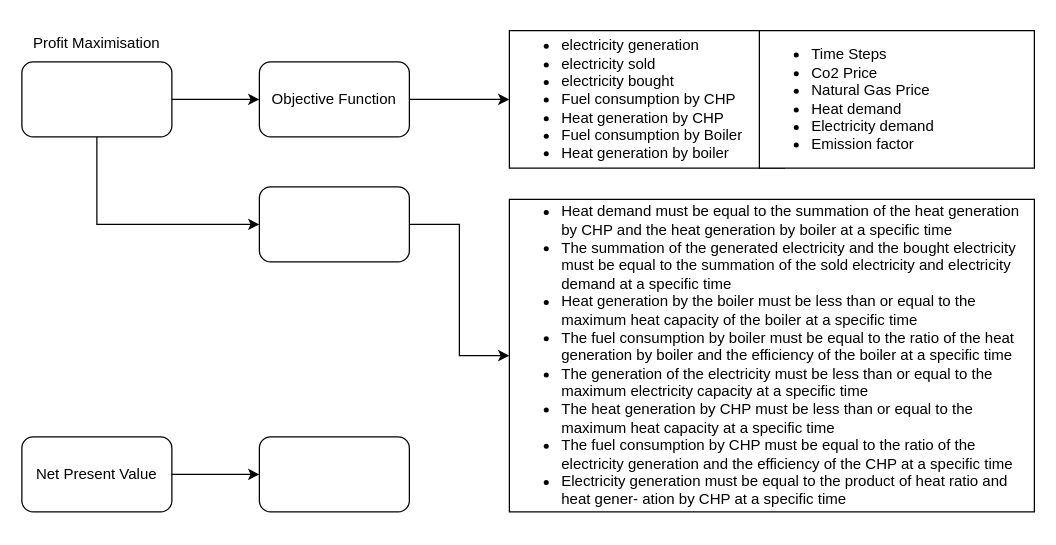
Image size: 1056x545. Some labels were removed from this diagram. The centre of each missing label's shape, as x and y in pixels:
"Constraints" goes at [333,224].
"Linear Optimization Model" goes at [96,99].
"Positive / Negative" goes at [333,474].
